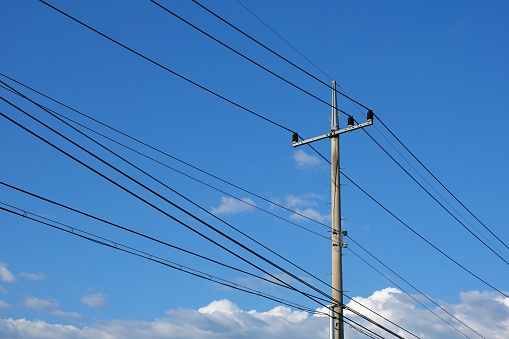utility_pole: (286, 71, 378, 191)
